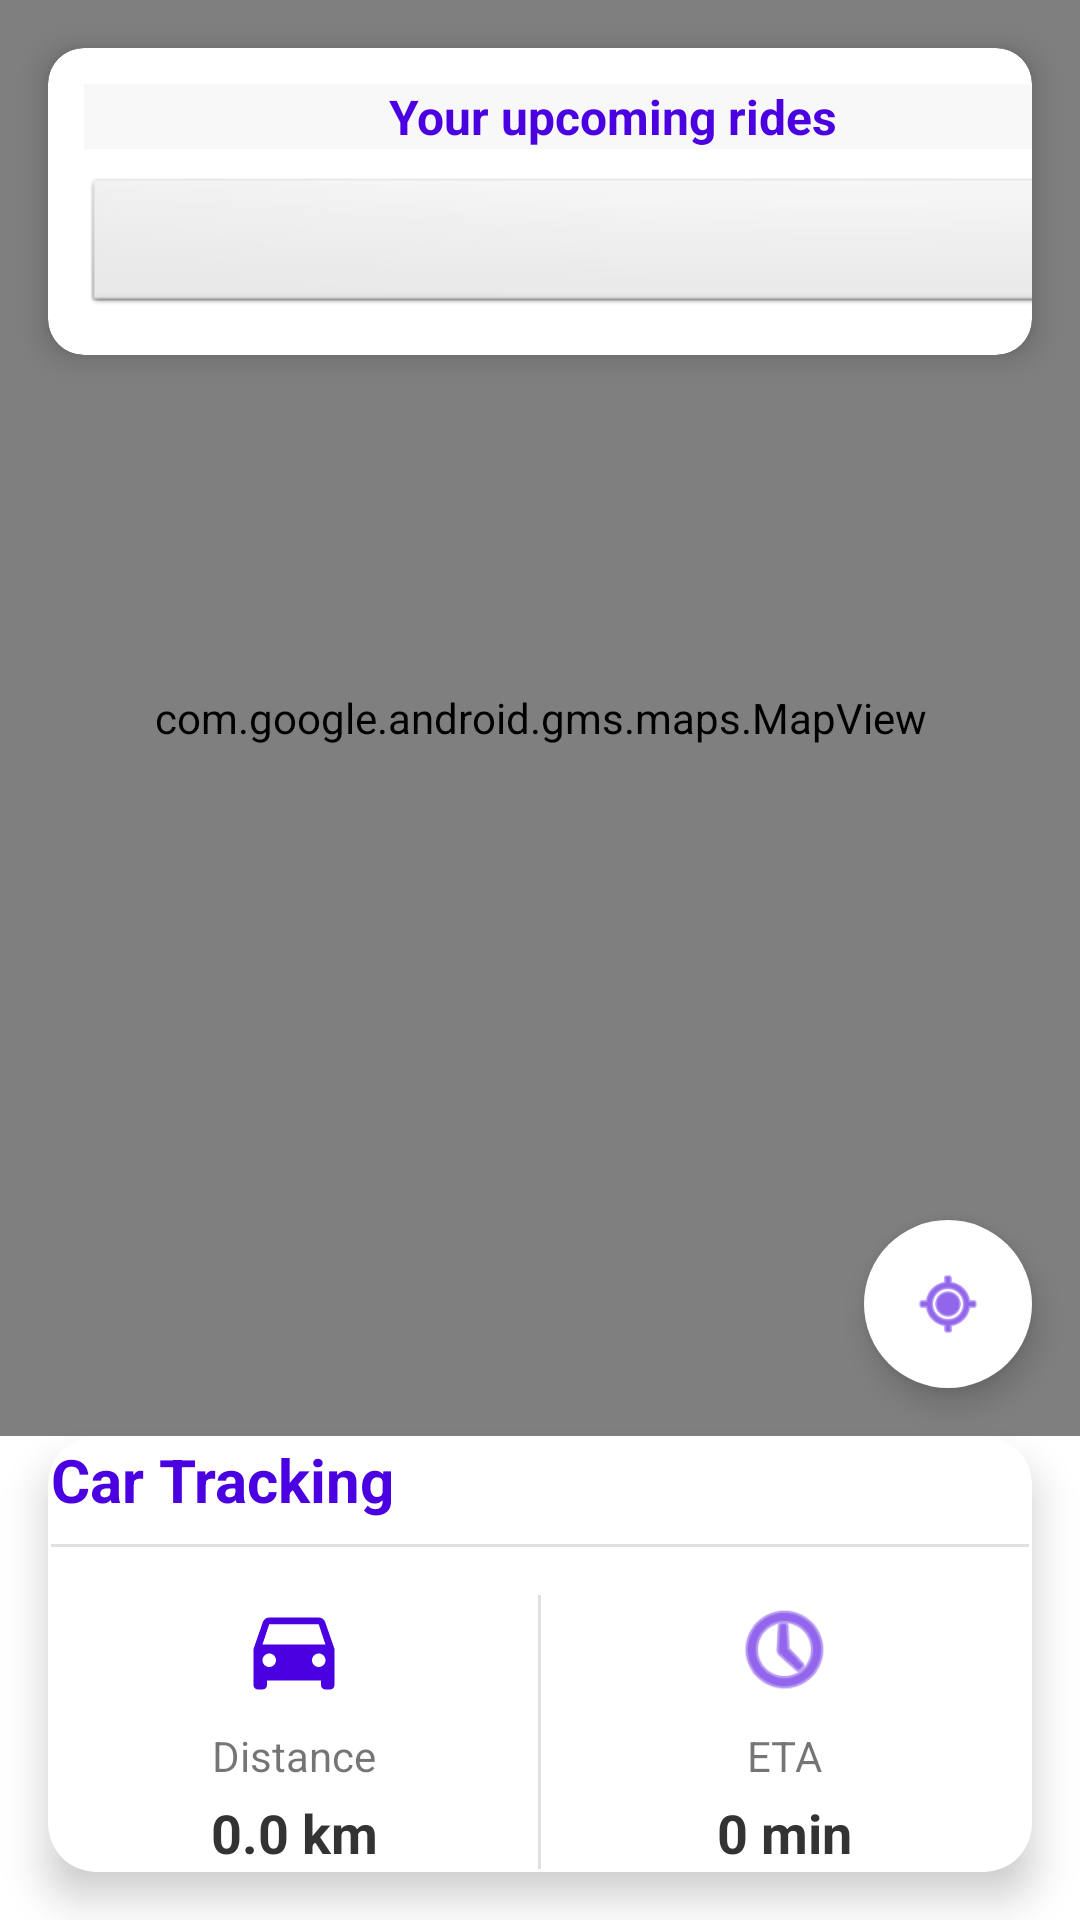

Icon bounding boxes for this 1080*1920 phone screenshot, format bbox=(x1, y1, x2, y2):
mylocation: bbox=(864, 1220, 1032, 1388)
recent history: bbox=(745, 1610, 824, 1689)
